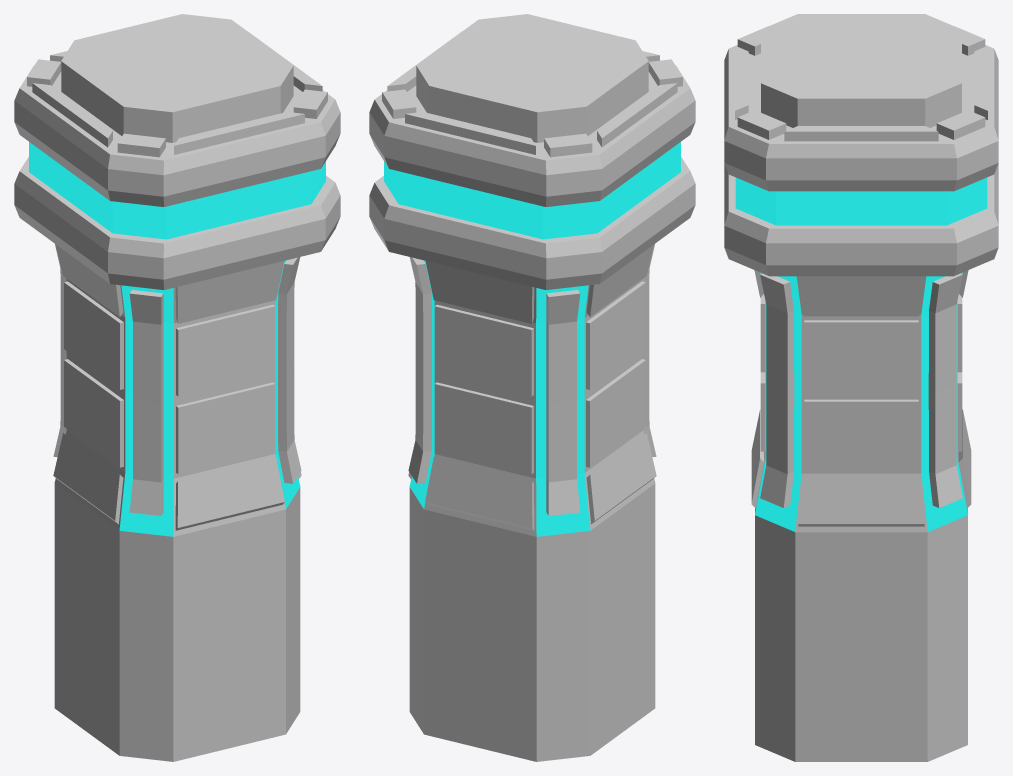
The model's file is tall-tower2.glb.
3 renders of one model, left to right at view 1: azimuth 30°, elevation 25°; view 2: azimuth 150°, elevation 25°; view 3: azimuth 270°, elevation 25°, orthographic. The views are drawn at different scales.
Visible parts, largest first — view 1: Cube.032; view 2: Cube.032; view 3: Cube.032.
Part boxes in pixels (bbox=[...]): Cube.032: bbox=[14, 14, 340, 761]; Cube.032: bbox=[369, 14, 695, 761]; Cube.032: bbox=[724, 14, 998, 761].
Size of the model in its own units: 18.91 by 50.24 by 18.91.
